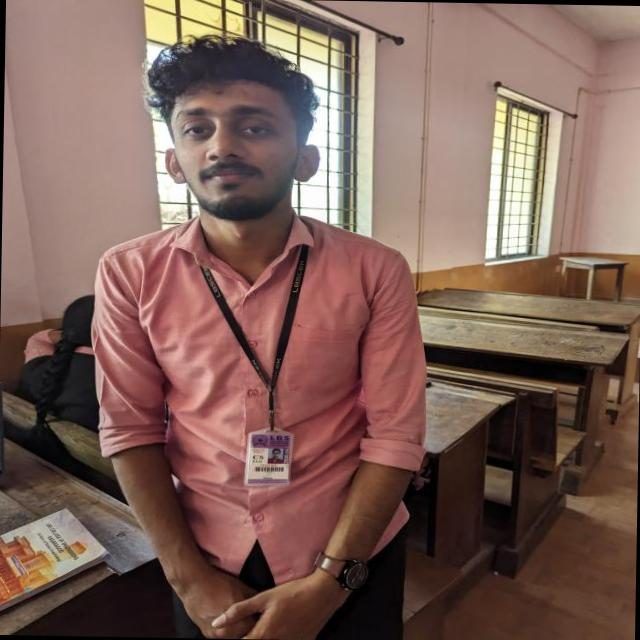id_card: (203, 229, 308, 484)
